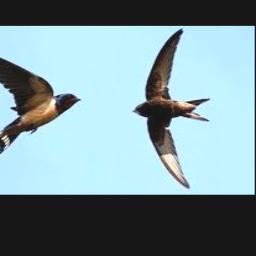Swallow: (132, 29, 210, 189), (0, 51, 82, 163)
